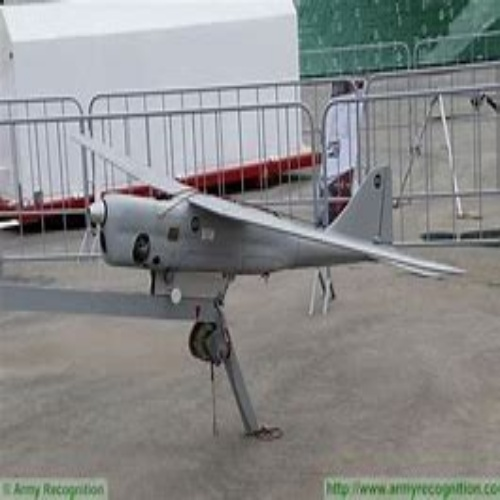uav354: (70, 131, 469, 285)
